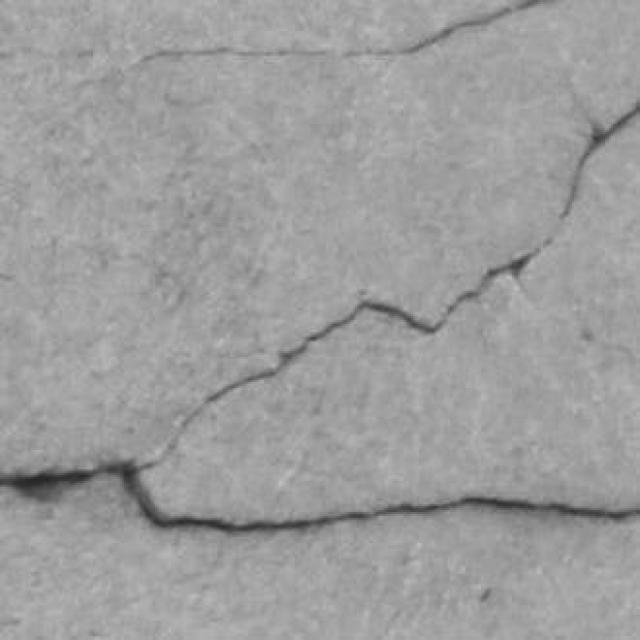crack: (142, 101, 639, 467), (0, 466, 639, 533), (123, 474, 639, 533), (130, 0, 562, 67), (134, 0, 560, 65), (514, 101, 639, 281)
